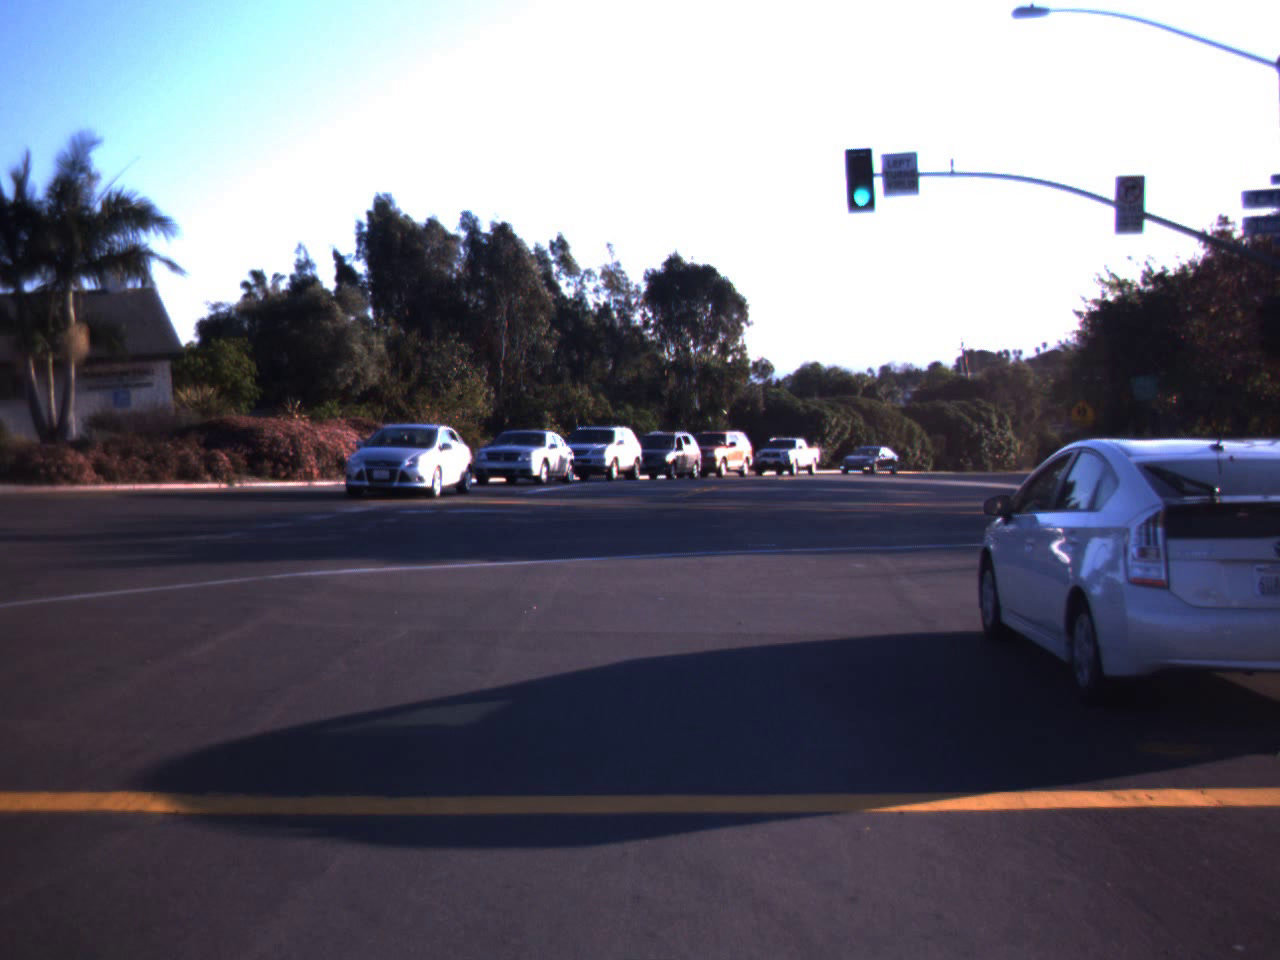go: (839, 134, 884, 214)
